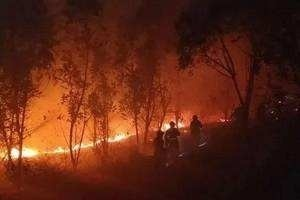fire: (158, 112, 188, 133), (108, 129, 132, 143)
